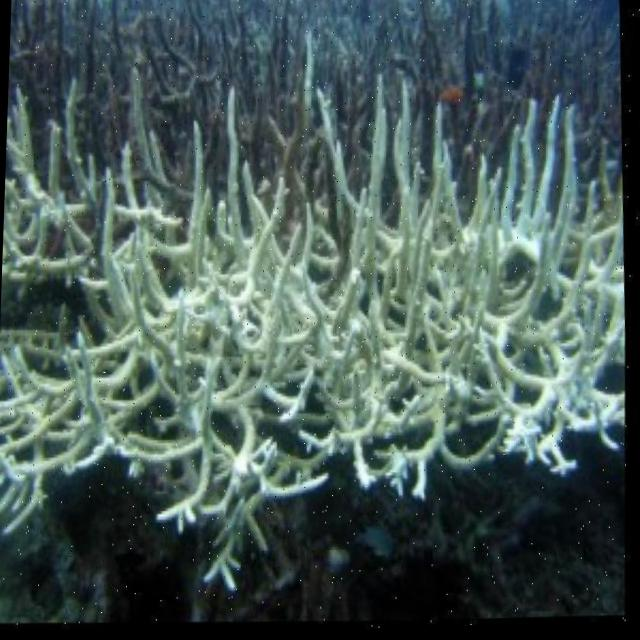Bleached Coral: (0, 36, 640, 607)
